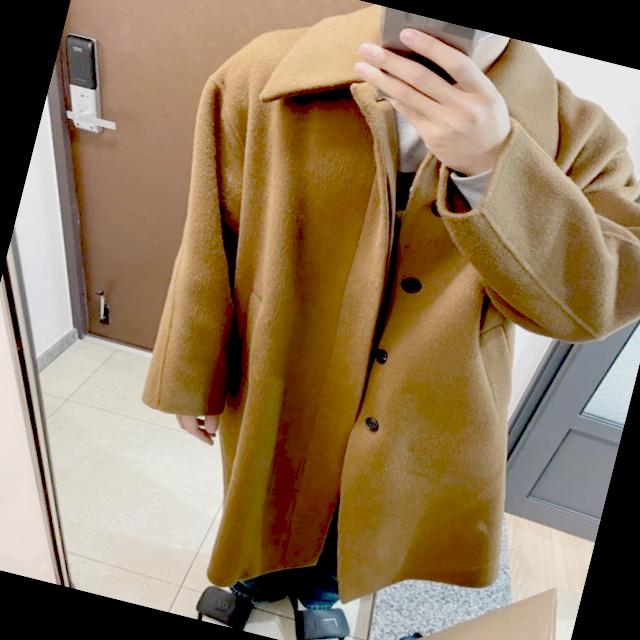coat: (84, 0, 640, 640)
